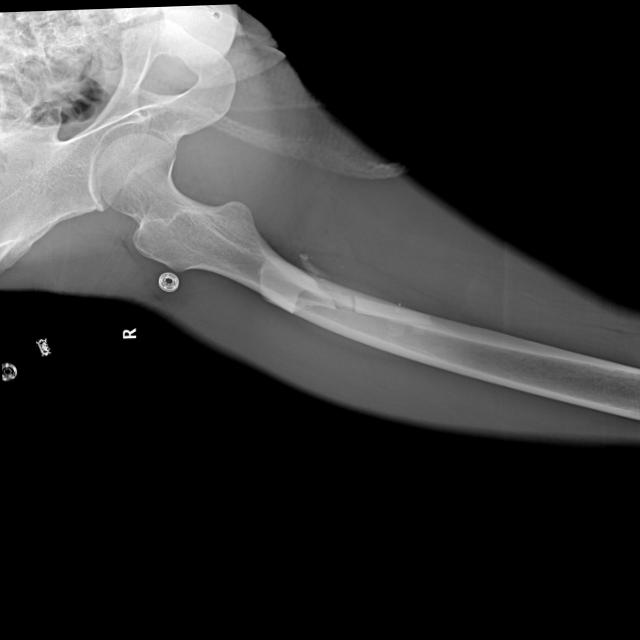normal-right: (96, 131, 267, 281)
